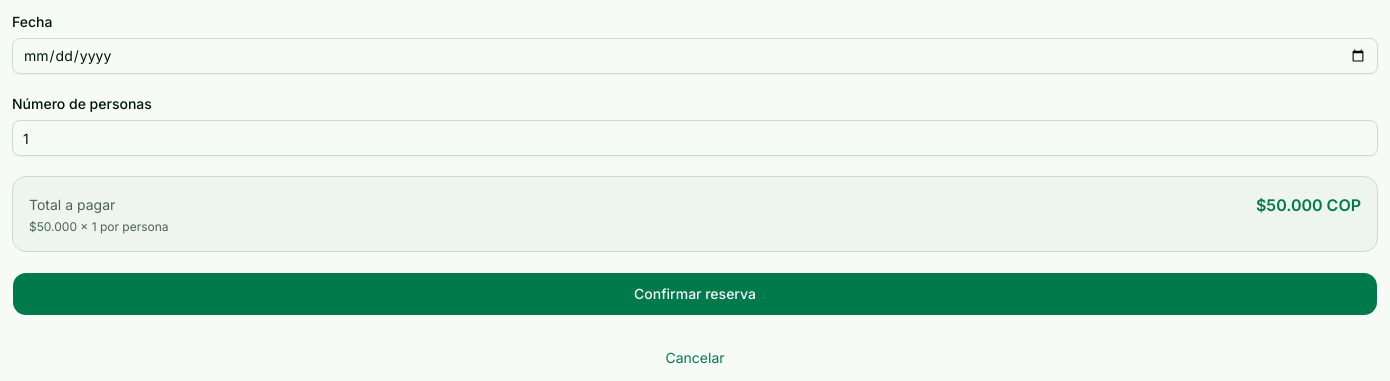
BookingForm › caps the entered quantity at the service capacity
Replace the text in the number field labelled "Número de personas" with "9". click: (695, 138)
box: [12, 120, 1378, 156]
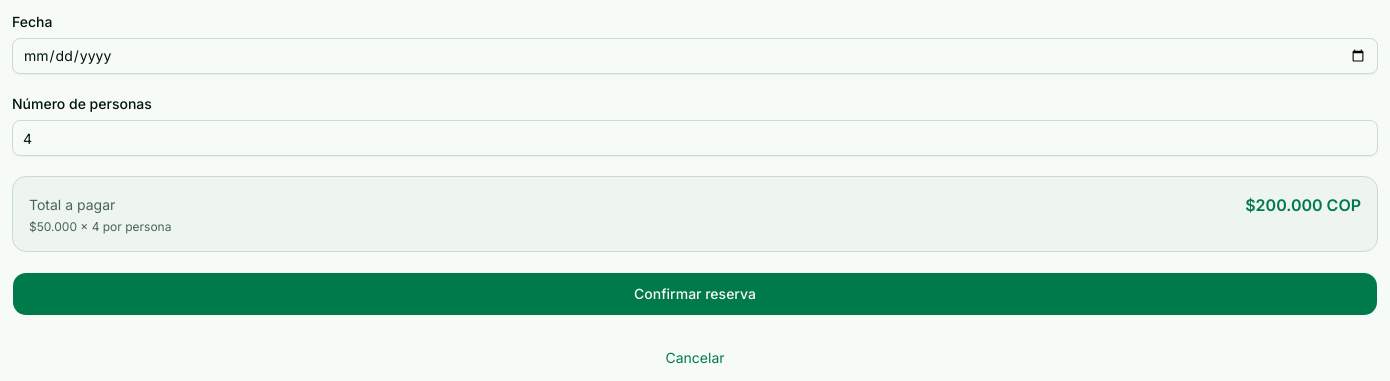
Now the number field labelled "Número de personas" holds "4", box [12, 120, 1378, 156]
Now the text "$200.000 COP" is shown, box [1245, 193, 1361, 217]
